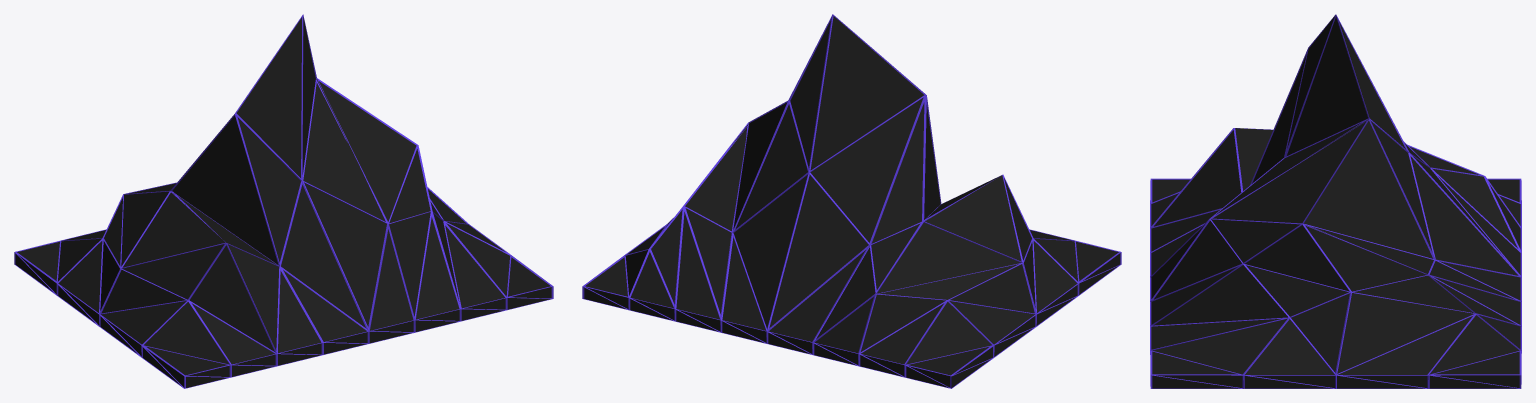
The model's file is mountain single.fbx.
3 renders of one model, left to right at view 1: azimuth 30°, elevation 25°; view 2: azimuth 150°, elevation 25°; view 3: azimuth 270°, elevation 25°, orthographic. The views are drawn at different scales.
Visible parts, largest first — view 1: Cube.001; view 2: Cube.001; view 3: Cube.001.
Boxes of the visible parts, x1,y1,x2,y2 form: Cube.001: (14,14,553,388); Cube.001: (582,14,1121,388); Cube.001: (1150,14,1521,388).
Bounding box in the file's own units: 20755 × 14094 × 16556.
